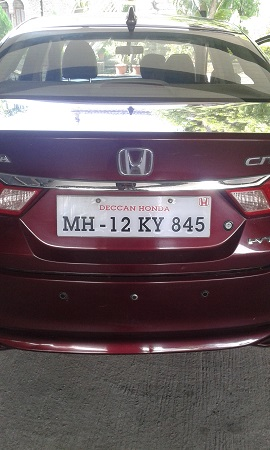licenseplate: (53, 190, 213, 240)
